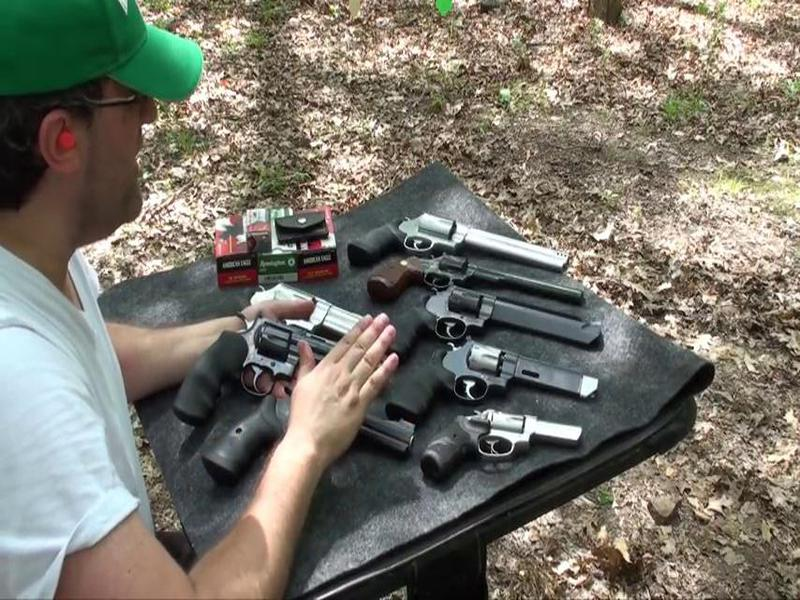Revolver: (168, 305, 362, 427)
